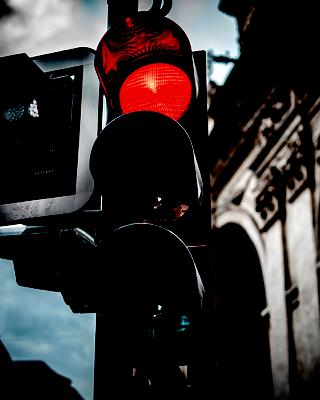International Road Signal Light: (95, 5, 207, 252)
